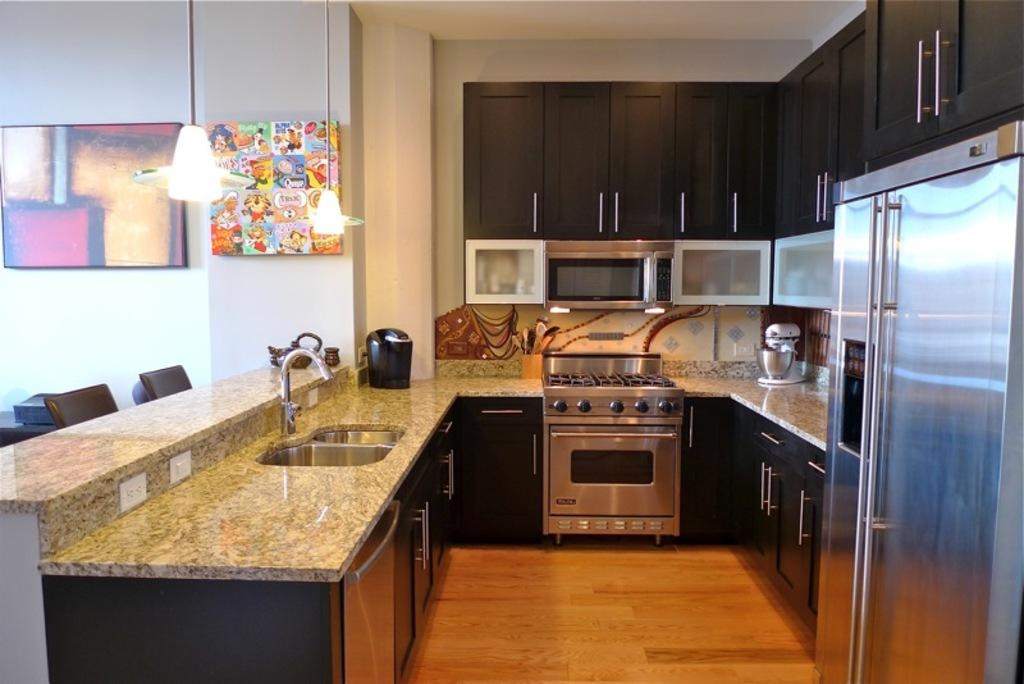cabinet_door: (462, 84, 546, 250), (708, 80, 790, 236), (866, 5, 952, 151), (606, 84, 672, 244), (544, 86, 606, 250), (938, 15, 1024, 129), (463, 422, 539, 540), (669, 82, 712, 244), (823, 42, 873, 178), (786, 71, 828, 232), (780, 490, 822, 606), (685, 396, 716, 530), (758, 457, 788, 588), (730, 435, 764, 547), (458, 397, 532, 416)
handle: (860, 181, 894, 684), (845, 191, 881, 641), (550, 417, 676, 447), (356, 502, 398, 578), (927, 29, 953, 121), (912, 39, 930, 131), (523, 190, 545, 238), (674, 188, 694, 240), (414, 508, 432, 564), (791, 491, 808, 549), (811, 172, 829, 225), (422, 502, 438, 560), (758, 421, 788, 450), (724, 180, 738, 240), (478, 401, 520, 419), (596, 186, 610, 239), (822, 169, 834, 230), (444, 444, 462, 484), (763, 466, 776, 518), (440, 454, 454, 502), (754, 463, 768, 510), (804, 462, 834, 481), (610, 187, 622, 233), (530, 429, 540, 474), (440, 413, 459, 434), (689, 398, 696, 450)
